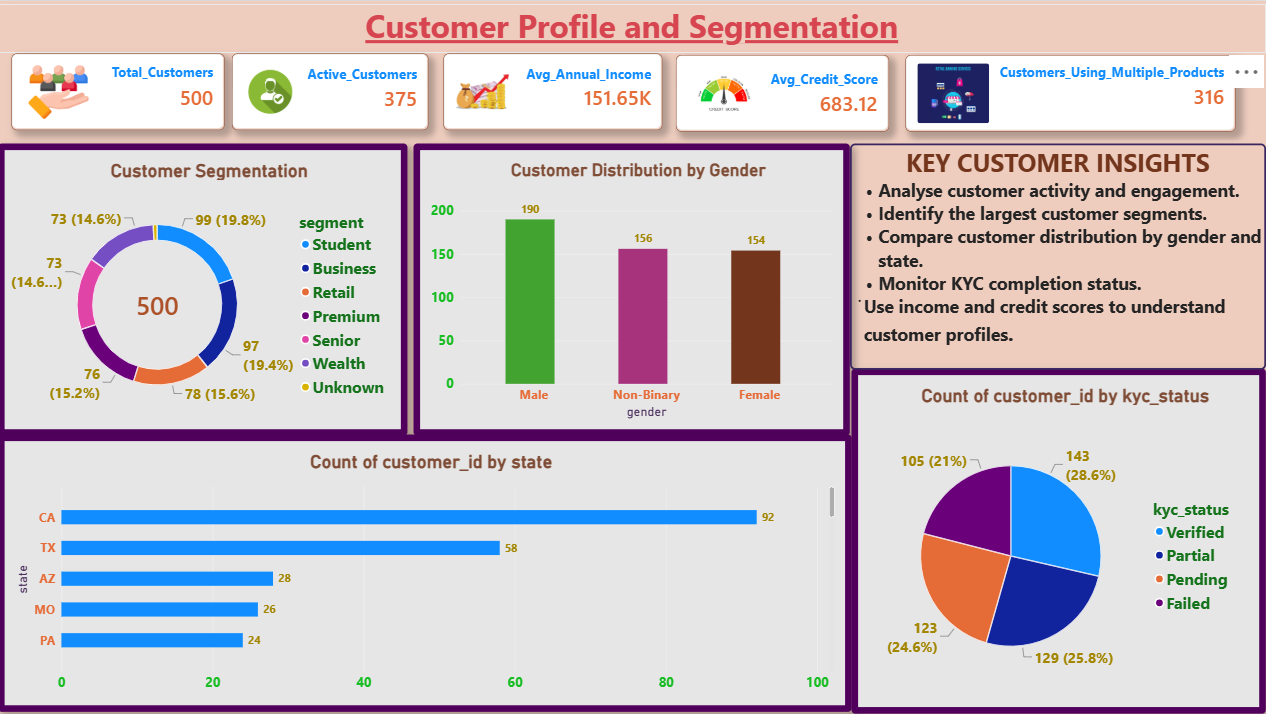

This screenshot's page, from the dashboard's own definition file:
{"tool":"powerbi","page":{"name":"Customer Profile & Segmentation","canvas":[1920,1080],"ordinal":1},"visuals":[{"type":"cardVisual","fields":{"Data":["customers.Total_Customers"]},"box":[20.4,79.5,322.5,115.8],"z":0},{"type":"cardVisual","fields":{"Data":["customers.Active_Customers"]},"box":[354.3,79.5,297.5,115.8],"z":1000},{"type":"cardVisual","fields":{"Data":["customers.Avg_Annual_Income"]},"box":[674.6,79.5,331.6,115.8],"z":2000},{"type":"cardVisual","fields":{"Data":["customers.Avg_Credit_Score"]},"box":[1026.6,81.8,322.5,115.8],"z":3000},{"type":"cardVisual","fields":{"Data":["customers.Customers_Using_Multiple_Products"]},"box":[1374.1,81.8,499.7,115.8],"z":4000},{"type":"textbox","box":[0,4.5,1919.3,75],"z":5000},{"type":"textbox","box":[20,533,323,150],"z":6000},{"type":"donutChart","title":"Customer Segmentation","fields":{"Category":["customers.segment"],"Y":["Count(customers.customer_id)"]},"box":[0,215,620.1,442.9],"z":7000},{"type":"clusteredColumnChart","title":"Customer Distribution by Gender","fields":{"Category":["customers.gender"],"Y":["Count(customers.customer_id)"]},"box":[630,215,661,442.9],"z":8000},{"type":"barChart","fields":{"Category":["customers.state"],"Y":["CountNonNull(customers.customer_id)"]},"box":[0,657.5,1292.4,420.2],"z":9000},{"type":"pieChart","fields":{"Category":["customers.kyc_status"],"Y":["Count(customers.customer_id)"]},"box":[1292.5,557.5,627.5,522.5],"z":10000},{"type":"textbox","box":[1290,215,630,342.5],"z":11000}]}

Visuals, with their boxes in screenshot pixels (x1, y1, x2, y2), scaled from the page's 1920x1080 canvas onto the 1266x714 screenshot:
cardVisual - customers.Total_Customers: <region>13, 53, 226, 129</region>
cardVisual - customers.Active_Customers: <region>234, 53, 430, 129</region>
cardVisual - customers.Avg_Annual_Income: <region>445, 53, 663, 129</region>
cardVisual - customers.Avg_Credit_Score: <region>677, 54, 890, 131</region>
cardVisual - customers.Customers_Using_Multiple_Products: <region>906, 54, 1236, 131</region>
textbox: <region>0, 3, 1265, 53</region>
textbox: <region>13, 352, 226, 452</region>
"Customer Segmentation" donutChart: <region>0, 142, 409, 435</region>
"Customer Distribution by Gender" clusteredColumnChart: <region>415, 142, 851, 435</region>
barChart - customers.state x CountNonNull(customers.customer_id): <region>0, 435, 852, 712</region>
pieChart - customers.kyc_status x Count(customers.customer_id): <region>852, 369, 1265, 713</region>
textbox: <region>851, 142, 1265, 369</region>
